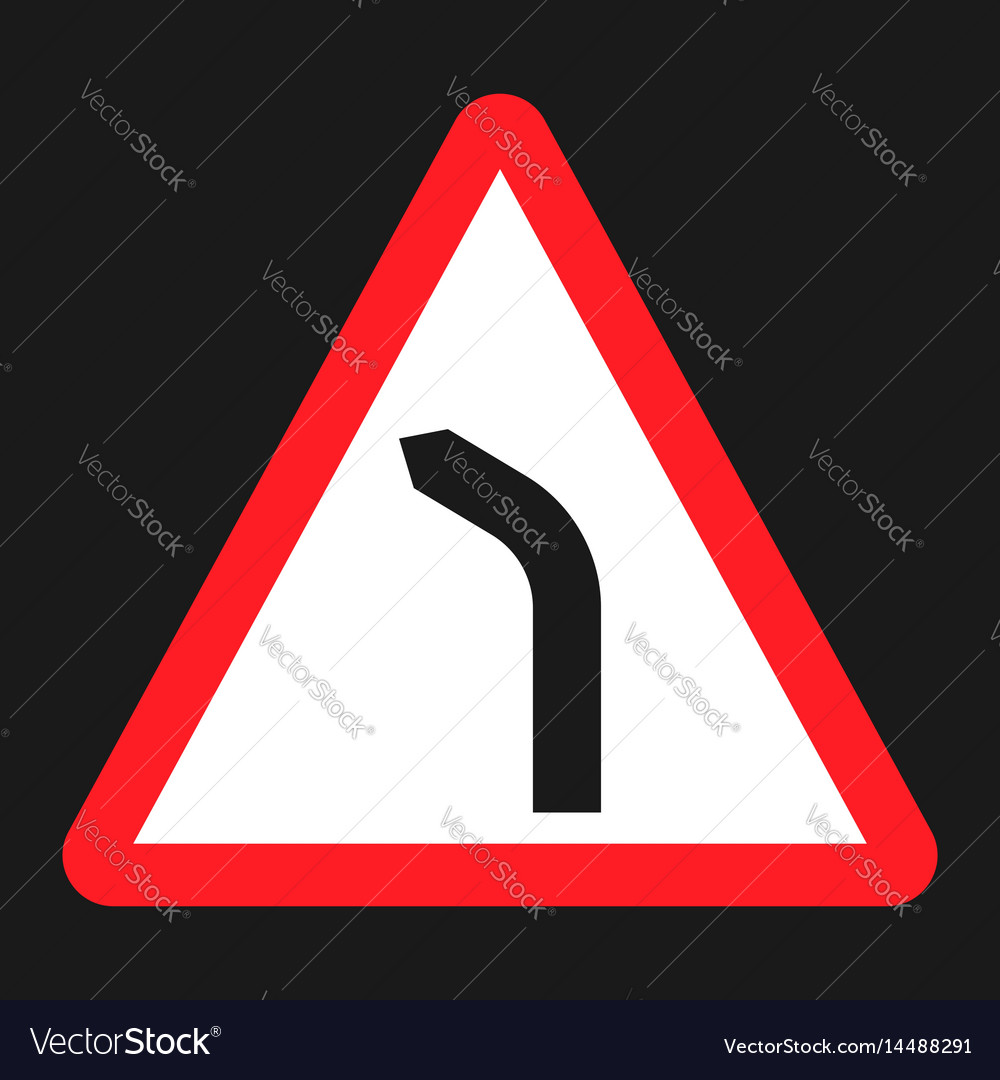Bend_to_left: (54, 92, 941, 912)
